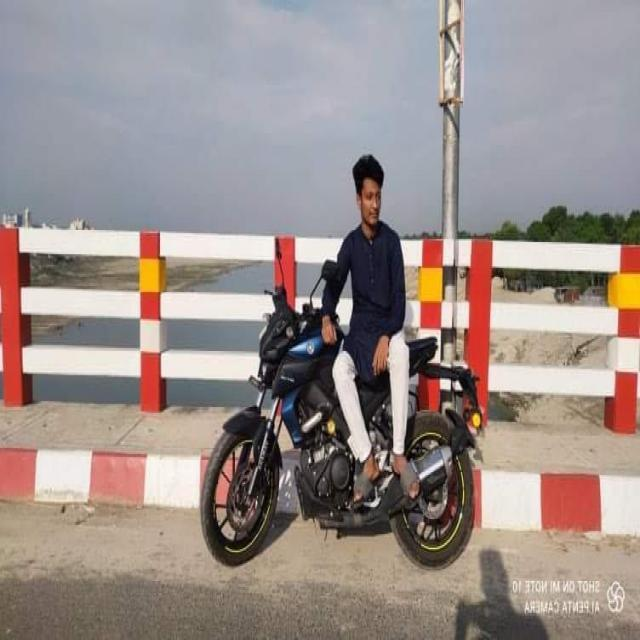No helmet: (344, 156, 394, 234)
